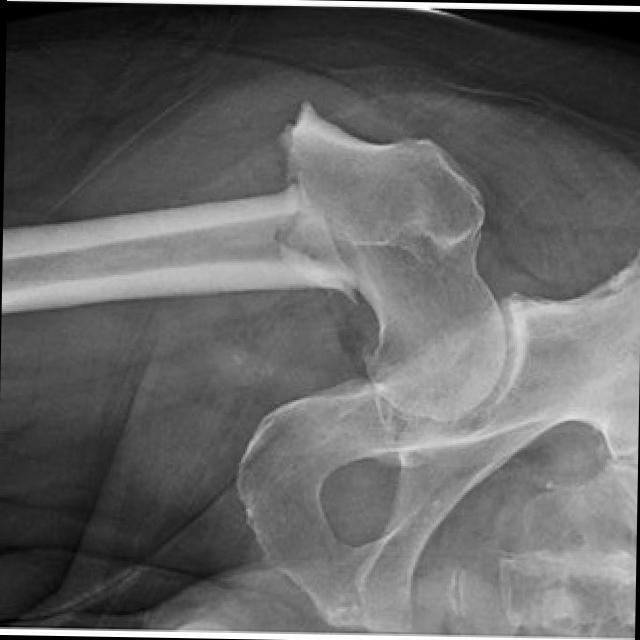right-subtrochanteric: (275, 100, 505, 422), (157, 185, 358, 305)
